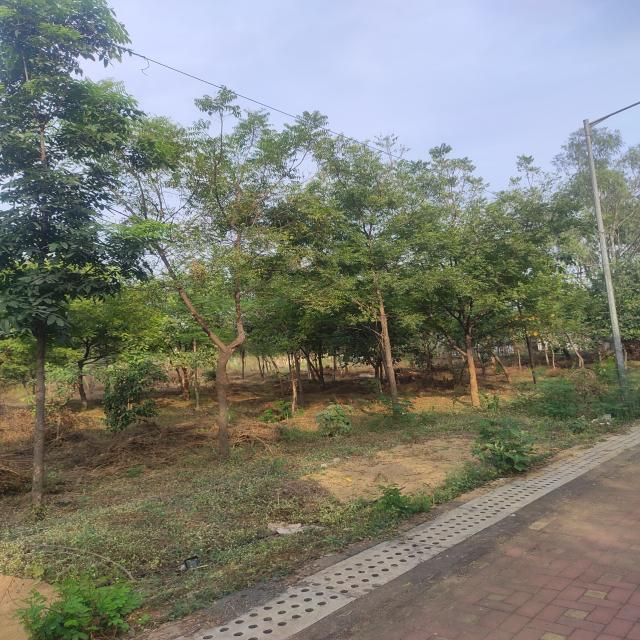Neem Tree: (178, 170, 398, 338)
